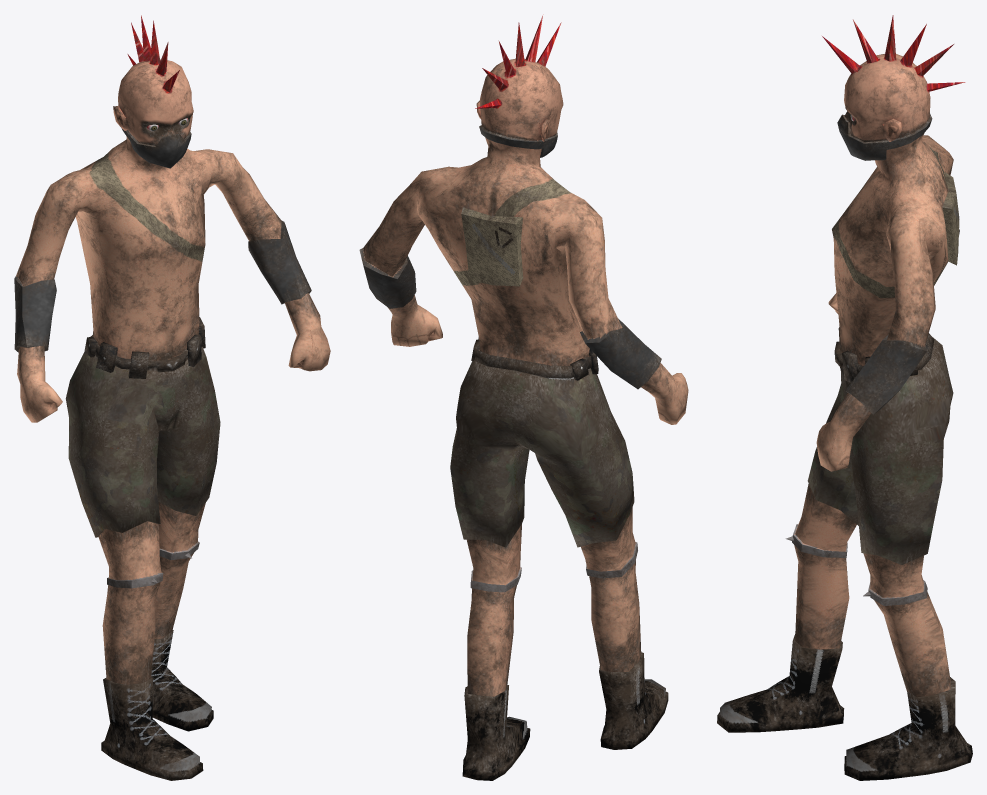
File: Anim_interruptor_npc2.0019.obj
3 renders of one model, left to right at view 1: azimuth 30°, elevation 25°; view 2: azimuth 150°, elevation 25°; view 3: azimuth 270°, elevation 25°, orthographic. The views are drawn at different scales.
Visible parts, largest first — view 1: polySurface1; view 2: polySurface1; view 3: polySurface1.
Part boxes in pixels (x1,y1,x2,y2): polySurface1: (14, 15, 330, 780); polySurface1: (359, 14, 688, 780); polySurface1: (717, 15, 972, 780).
Bounding box in the file's own units: 4.37 × 10.1 × 3.15.
